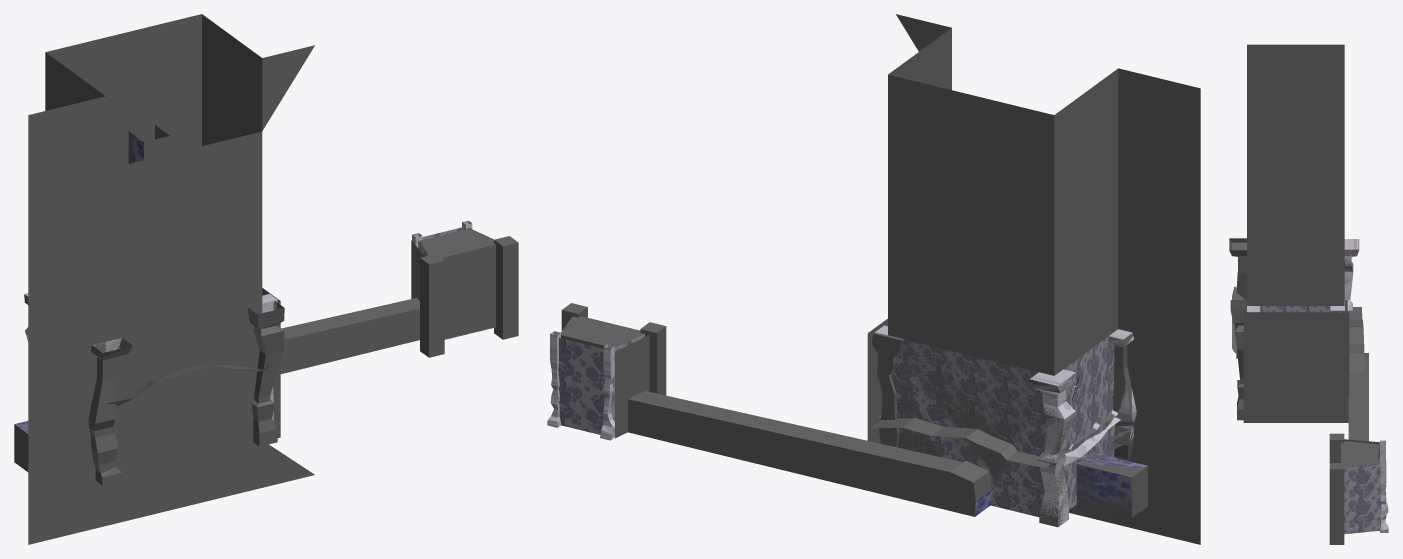
File: jin_06_bake.dae
3 views of the same model, side by side, from view 1: azimuth 30°, elevation 25°; view 2: azimuth 150°, elevation 25°; view 3: azimuth 270°, elevation 25° (orthographic). The views are drawn at different scales.
Visible parts, largest first — view 1: MASUKU, A_kabe, a_hasira, S_kabe_part1, polySurface1069, a_gawa02, polySurface1067, a_hari; view 2: MASUKU, S_kabe_part1, A_kabe, S_kabe_part0, polySurface1069, a_hasira, polySurface42_q035, kakusi_part0, a_be, kakusi1, a_hari, polySurface1064 (+4 smaller); view 3: A_kabe, MASUKU, pPlane9, S_kabe_part1, kakusi_part0, a_hasira, polySurface1067, polySurface1069, a_hari, a_gawa02, polySurface42_q035, polySurface42_q036 (+1 smaller).
Part boxes in pixels (x1=…): MASUKU: x1=28, y1=14, x2=314, y2=544; A_kabe: x1=105, y1=87, x2=262, y2=474; a_hasira: x1=24, y1=294, x2=284, y2=485; S_kabe_part1: x1=105, y1=87, x2=261, y2=169; polySurface1069: x1=280, y1=298, x2=419, y2=373; a_gawa02: x1=420, y1=229, x2=495, y2=338; polySurface1067: x1=420, y1=236, x2=518, y2=357; a_hari: x1=107, y1=125, x2=270, y2=406; MASUKU: x1=888, y1=14, x2=1200, y2=544; S_kabe_part1: x1=888, y1=146, x2=1118, y2=375; A_kabe: x1=888, y1=147, x2=1118, y2=516; S_kabe_part0: x1=890, y1=336, x2=1115, y2=516; polySurface1069: x1=628, y1=391, x2=991, y2=516; a_hasira: x1=872, y1=332, x2=1136, y2=527; polySurface42_q035: x1=874, y1=325, x2=1136, y2=526; kakusi_part0: x1=558, y1=317, x2=644, y2=434; a_be: x1=1076, y1=452, x2=1146, y2=517; kakusi1: x1=615, y1=335, x2=649, y2=438; a_hari: x1=870, y1=413, x2=1115, y2=468; polySurface1064: x1=1076, y1=453, x2=1147, y2=516; A_kabe: x1=1247, y1=104, x2=1344, y2=305; MASUKU: x1=1247, y1=44, x2=1344, y2=166; pPlane9: x1=1243, y1=312, x2=1349, y2=422; S_kabe_part1: x1=1247, y1=104, x2=1344, y2=305; kakusi_part0: x1=1344, y1=441, x2=1381, y2=534; a_hasira: x1=1229, y1=238, x2=1358, y2=420; polySurface1067: x1=1329, y1=433, x2=1344, y2=544; polySurface1069: x1=1348, y1=353, x2=1368, y2=441; a_hari: x1=1232, y1=286, x2=1364, y2=372; a_gawa02: x1=1341, y1=441, x2=1378, y2=467; polySurface42_q035: x1=1247, y1=239, x2=1359, y2=312; polySurface42_q036: x1=1380, y1=440, x2=1388, y2=532.
Size of the model in its own units: 104 by 78.71 by 32.63.
